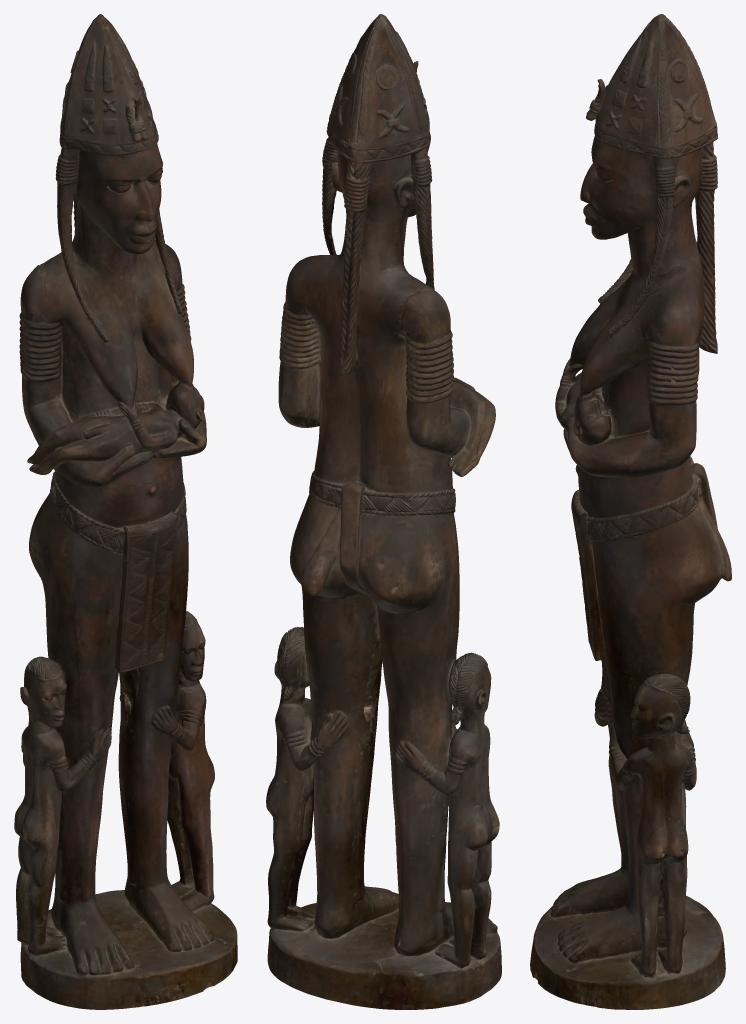
The model's file is preview.glb.
3 renders of one model, left to right at view 1: azimuth 30°, elevation 25°; view 2: azimuth 150°, elevation 25°; view 3: azimuth 270°, elevation 25°, orthographic. The views are drawn at different scales.
Parts seen in each view (by area): view 1: Object_2; view 2: Object_2; view 3: Object_2.
Part boxes in pixels (x1,y1,x2,y2): Object_2: [14, 14, 237, 1009]; Object_2: [266, 14, 501, 1009]; Object_2: [530, 14, 731, 1009].
Size of the model in its own units: 599 by 2635 by 509.
1 material, 1 textured.
